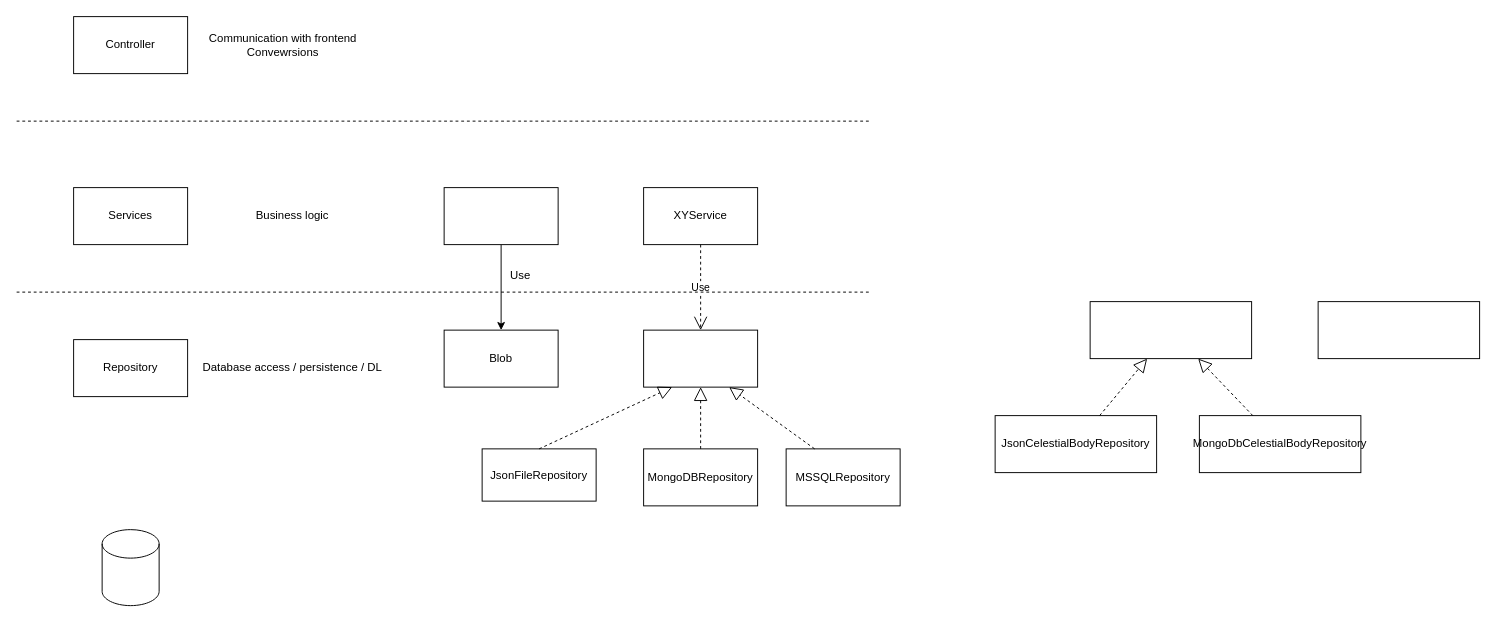
Image size: 1496x622. Some labels were removed from this diagram. The centre of each missing label's shape, as x and y in pixels:
"Client" goes at pixel 500 216.
"DB" goes at pixel 130 567.
"ICelestialBodyRepository" goes at pixel 1170 330.
"IRepository" goes at pixel 700 358.
"SolarSystemRepository" goes at pixel 1398 330.
